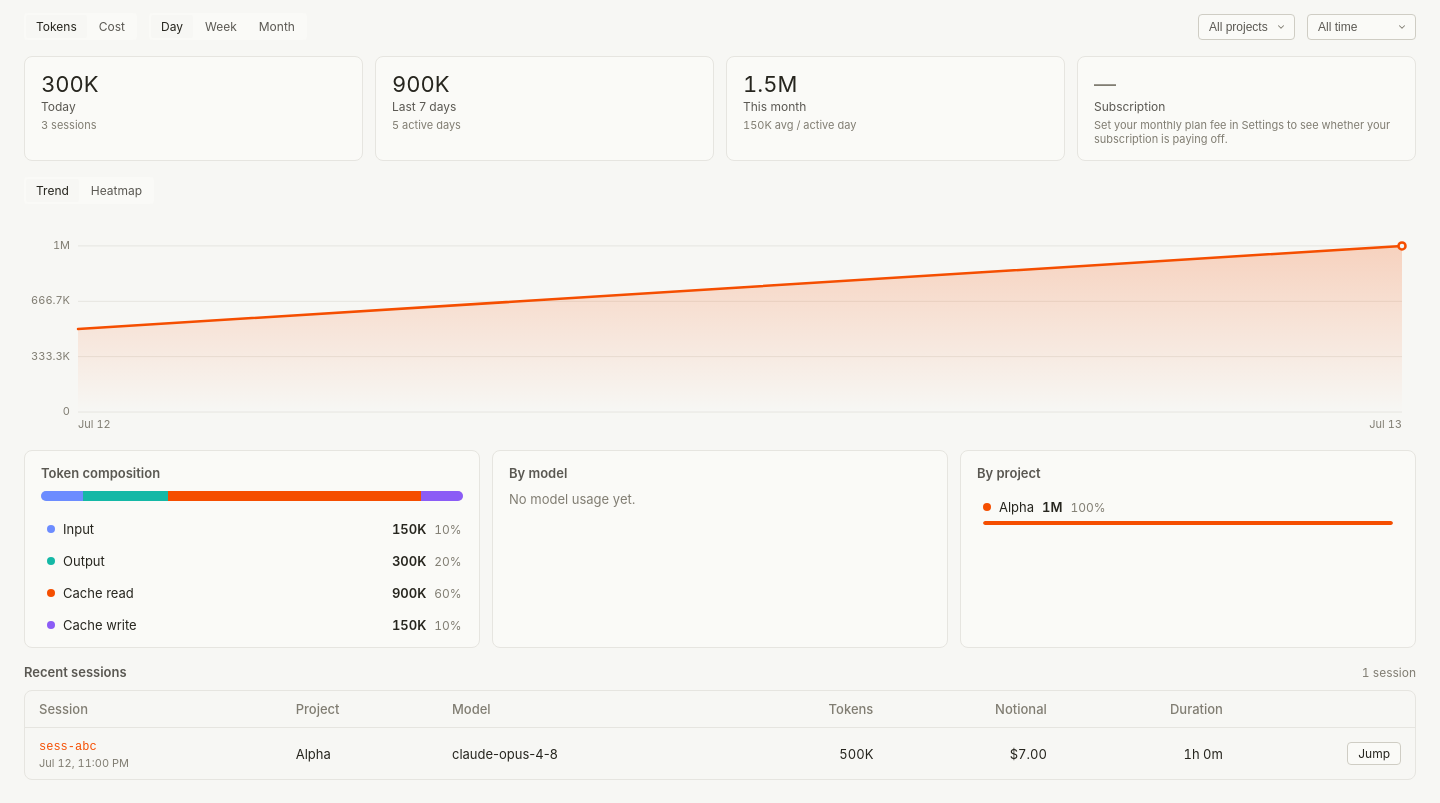
Test: UsageDashboard — by-project + session explorer (Slice 55) › shows an empty note when a session has no summary
The image size is (1440, 803).
What coordinates should you click on to do the following:
click the button "sess-abc"
I would click on:
 (68, 747)
Its box is x1=39 y1=740 x2=97 y2=754.
(page scrolled)
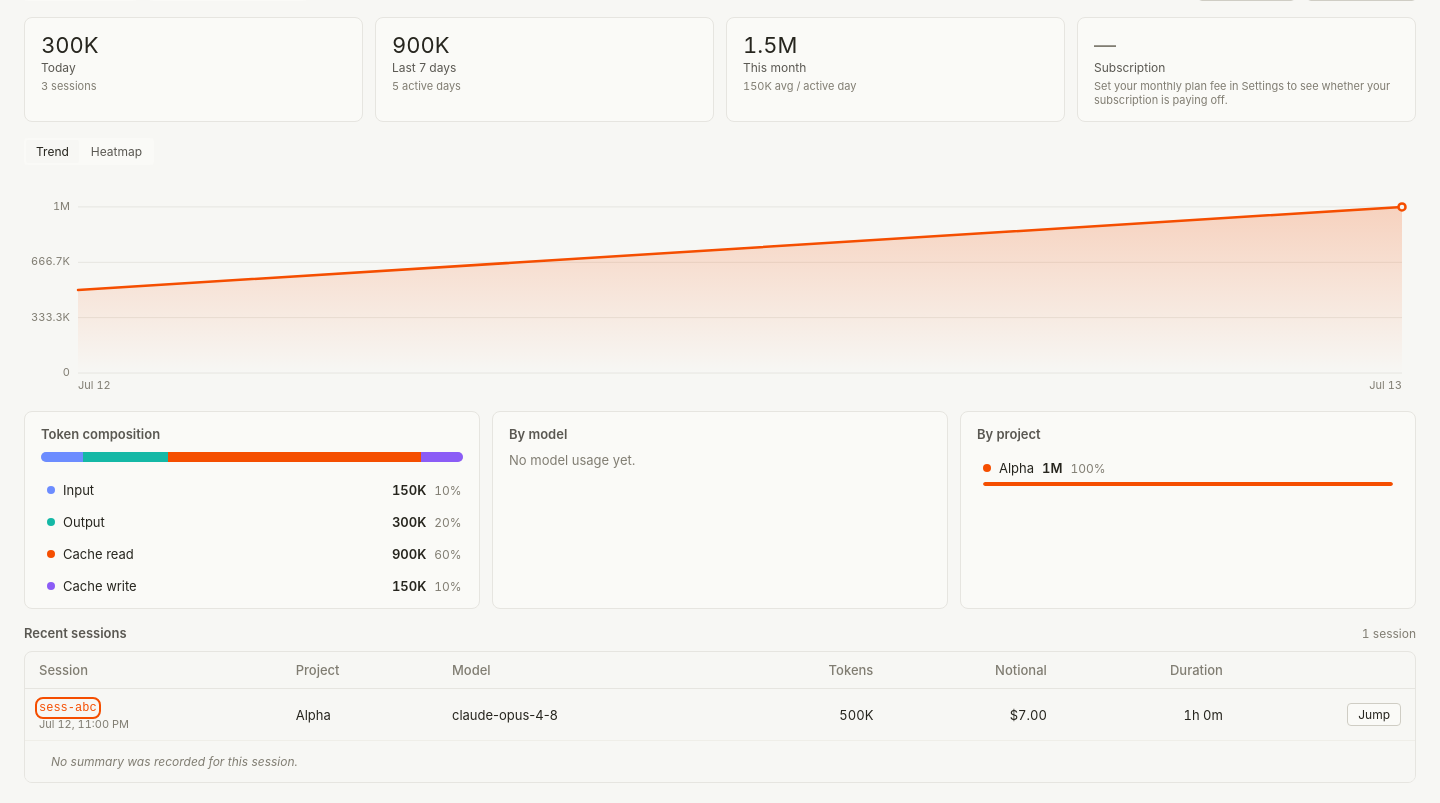
expect the text "No summary was recorded for this session." is shown: met, box x1=51 y1=754 x2=298 y2=769
